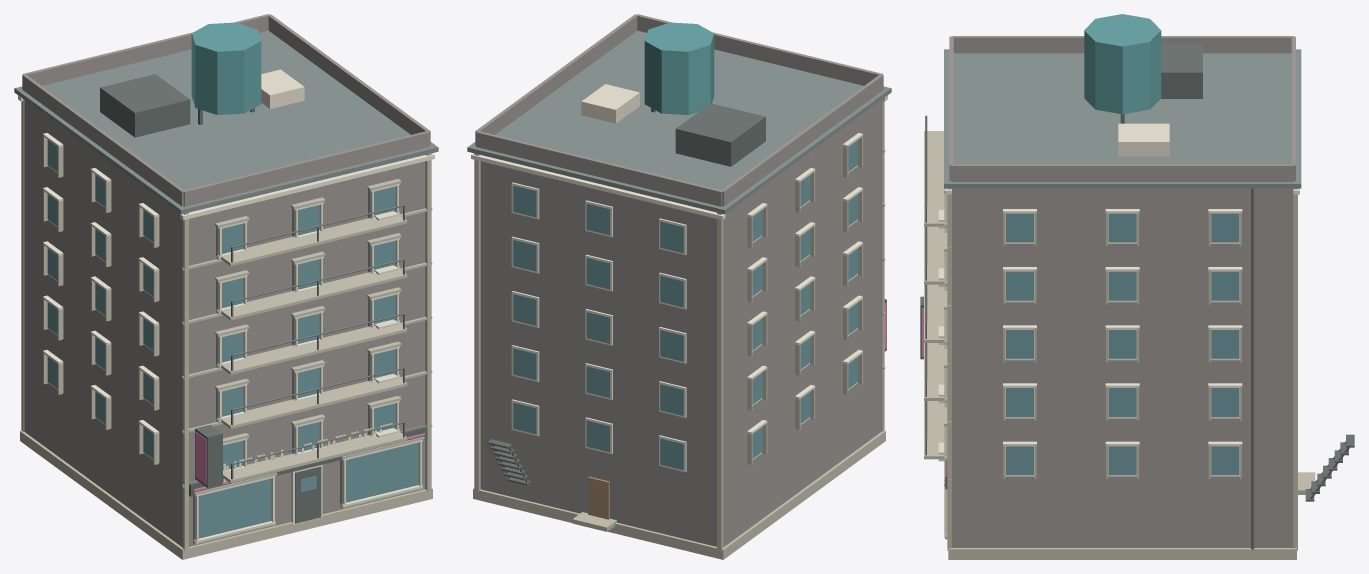
3 renders of one model, left to right at view 1: azimuth 30°, elevation 25°; view 2: azimuth 150°, elevation 25°; view 3: azimuth 270°, elevation 25°, orthographic. The views are drawn at different scales.
Size of the model in its own units: 14.9 by 23.94 by 20.3.
